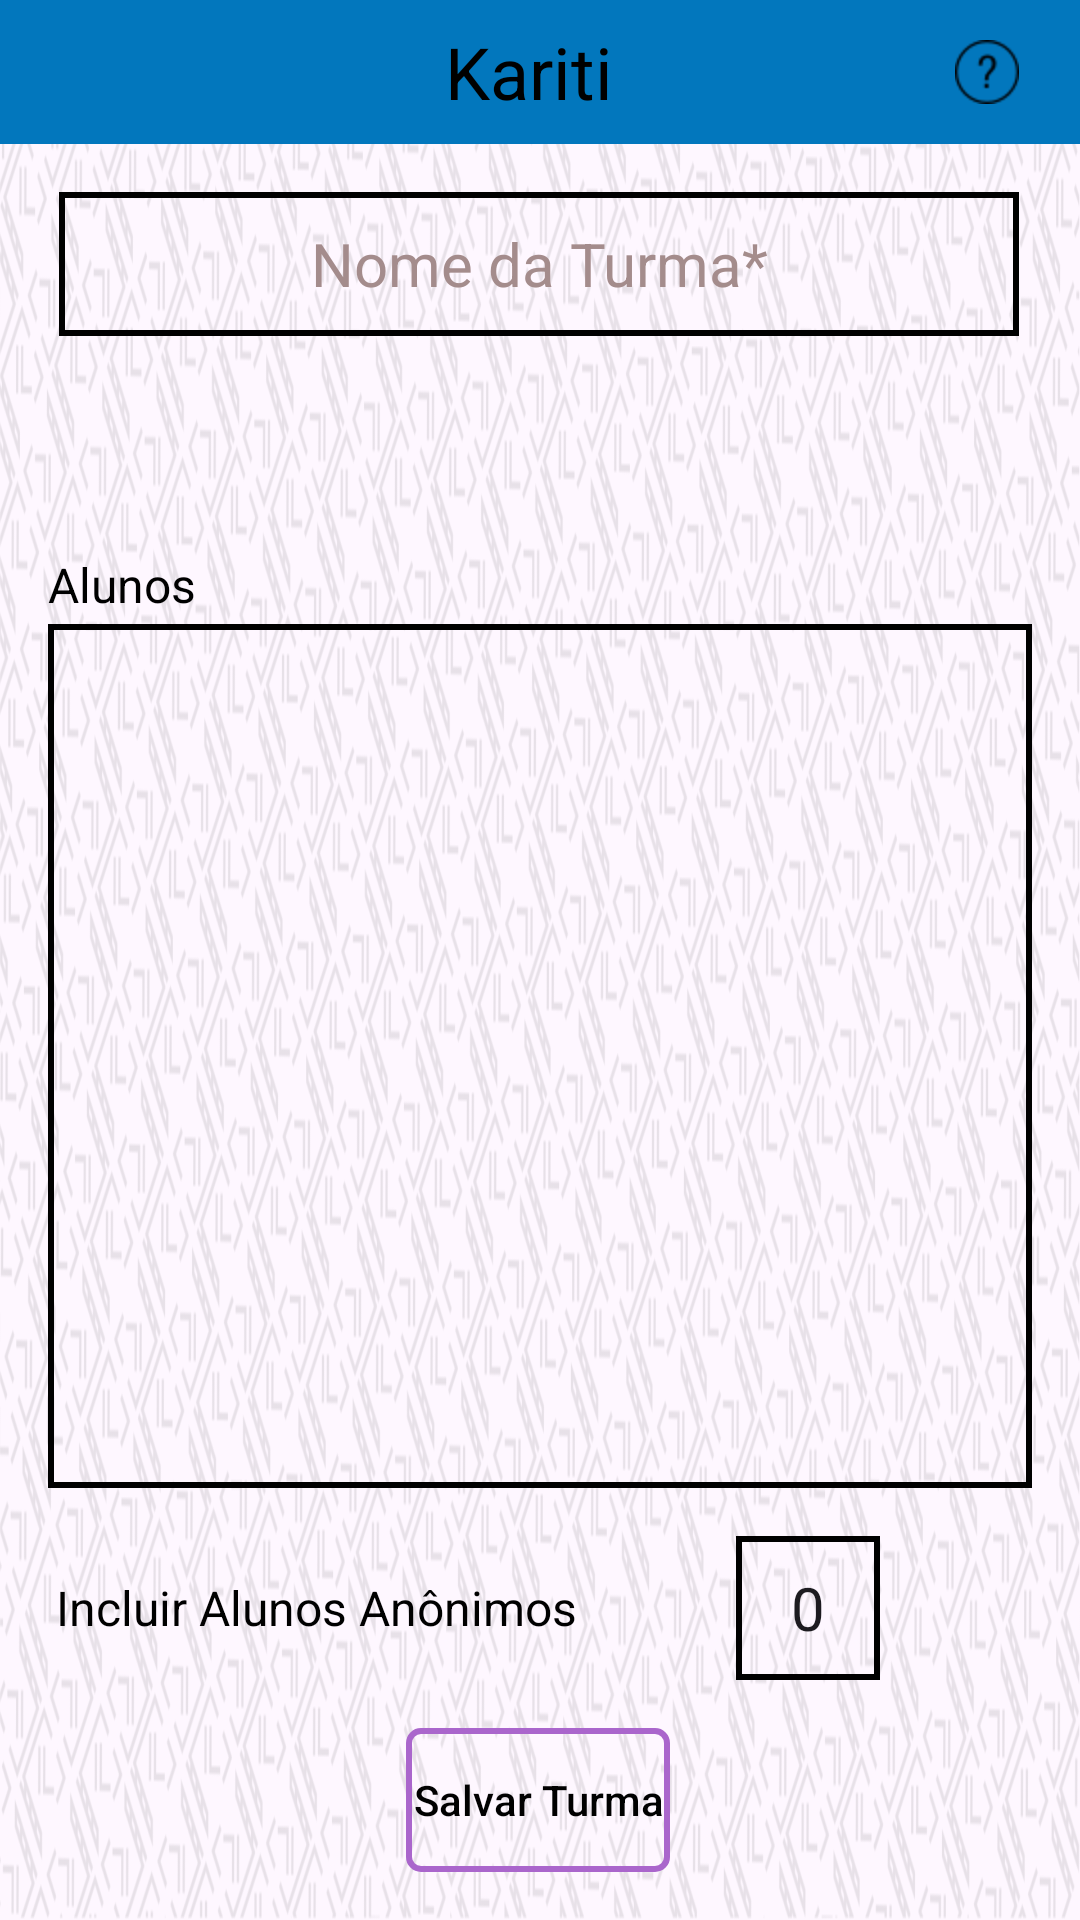

Named icons in this screenshot (1080×1920) and their centers, [x,y]:
Ajuda: [987,72]
